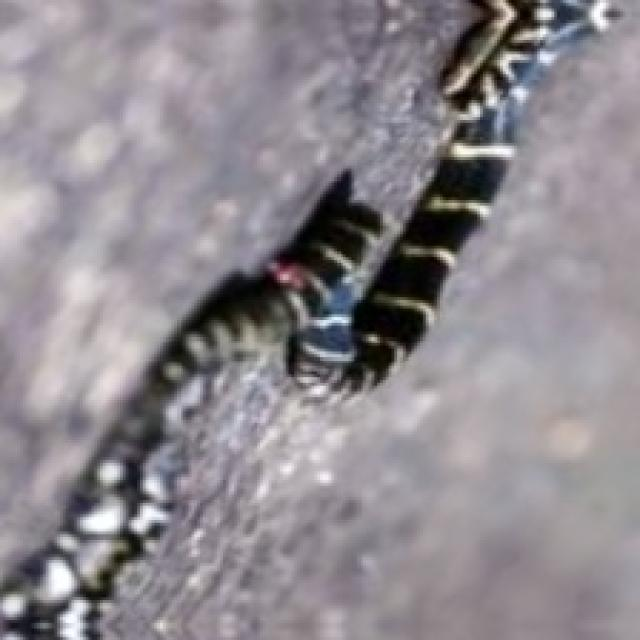king cobra: (103, 3, 637, 637), (0, 0, 471, 571)
